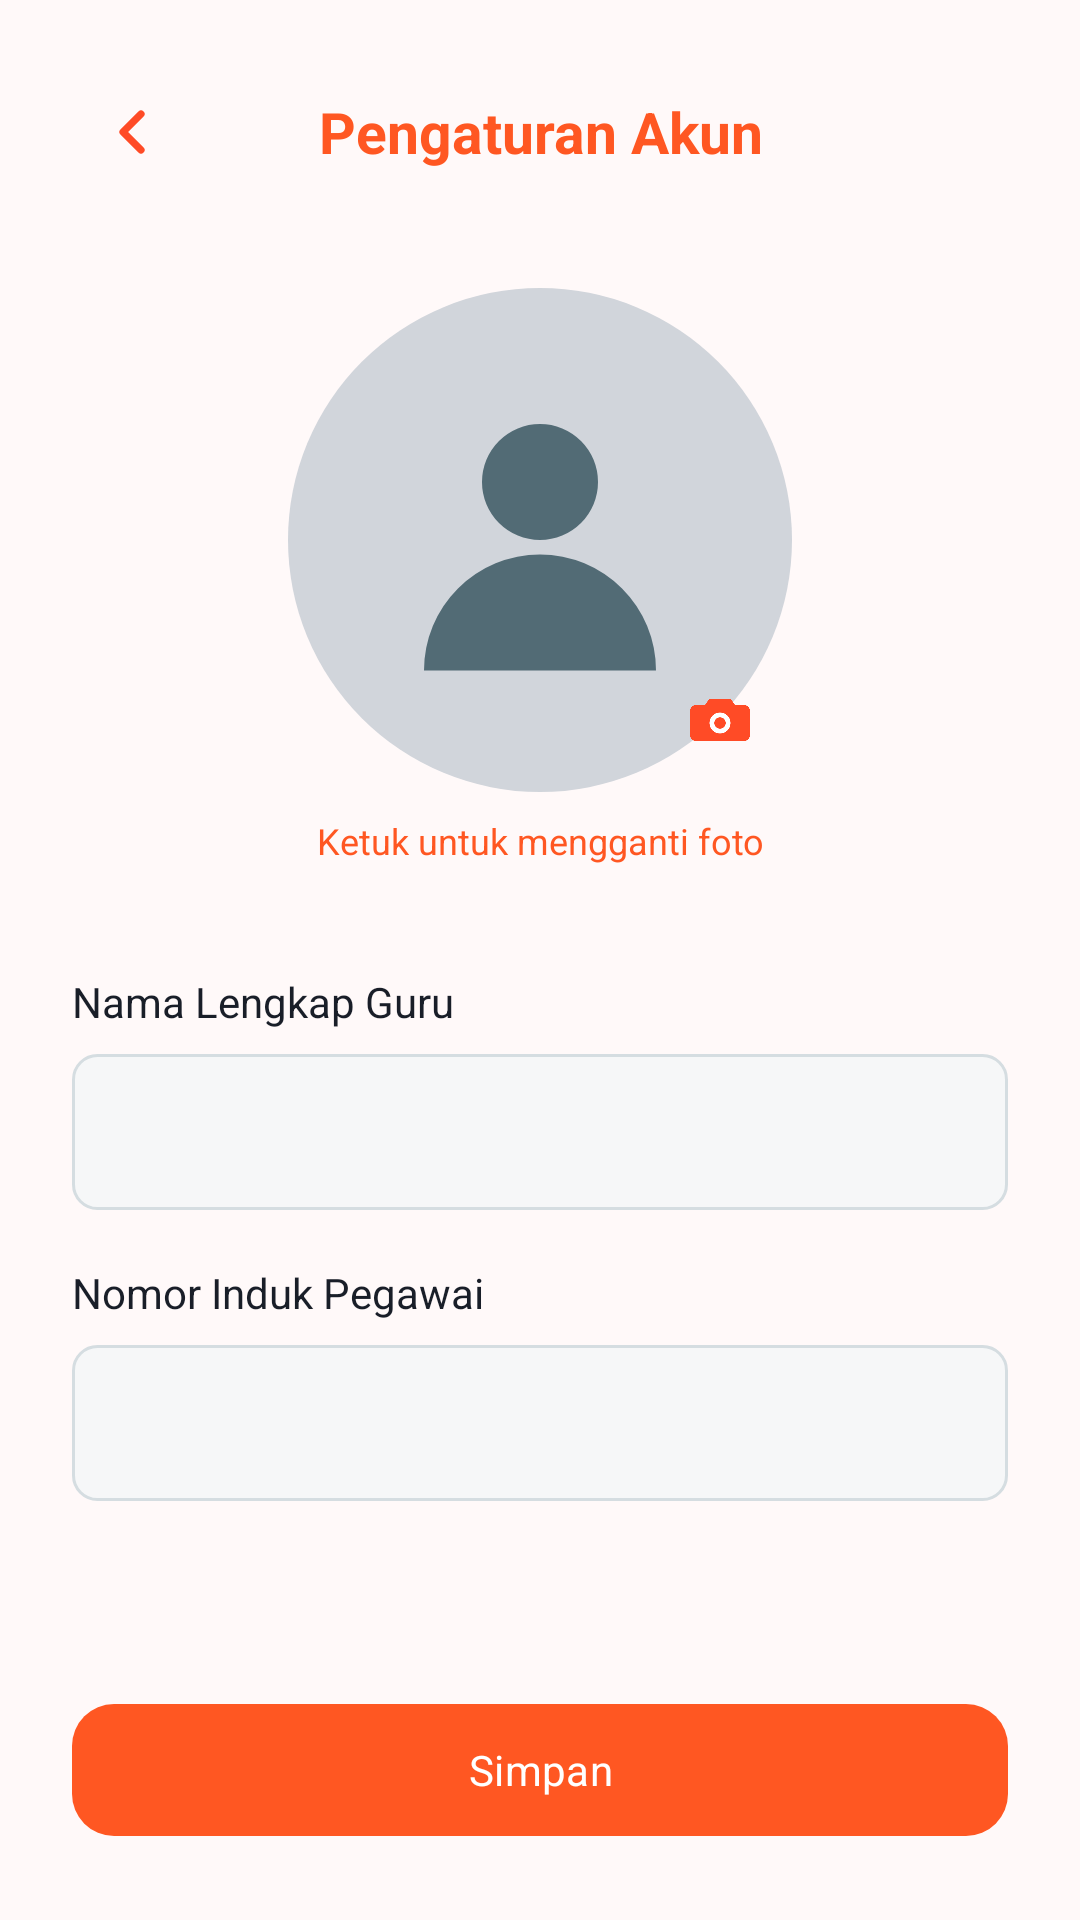

Locate icon controls on the screen. Image size 1080px x 1920px, boxes as (x1, y1, x2, y2).
Kembali: (119, 110, 145, 154)
